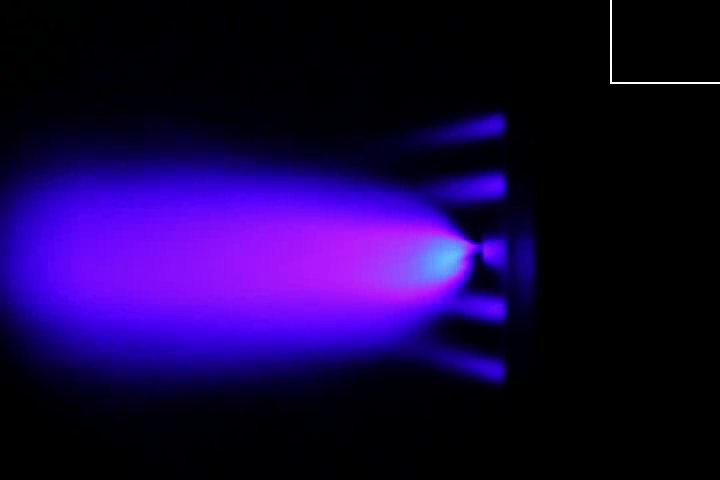burner cap: (481, 234, 508, 273)
pilot flame: (404, 345, 507, 386), (402, 168, 505, 205), (411, 114, 507, 147), (440, 293, 511, 330)
stable: (299, 205, 482, 304)
